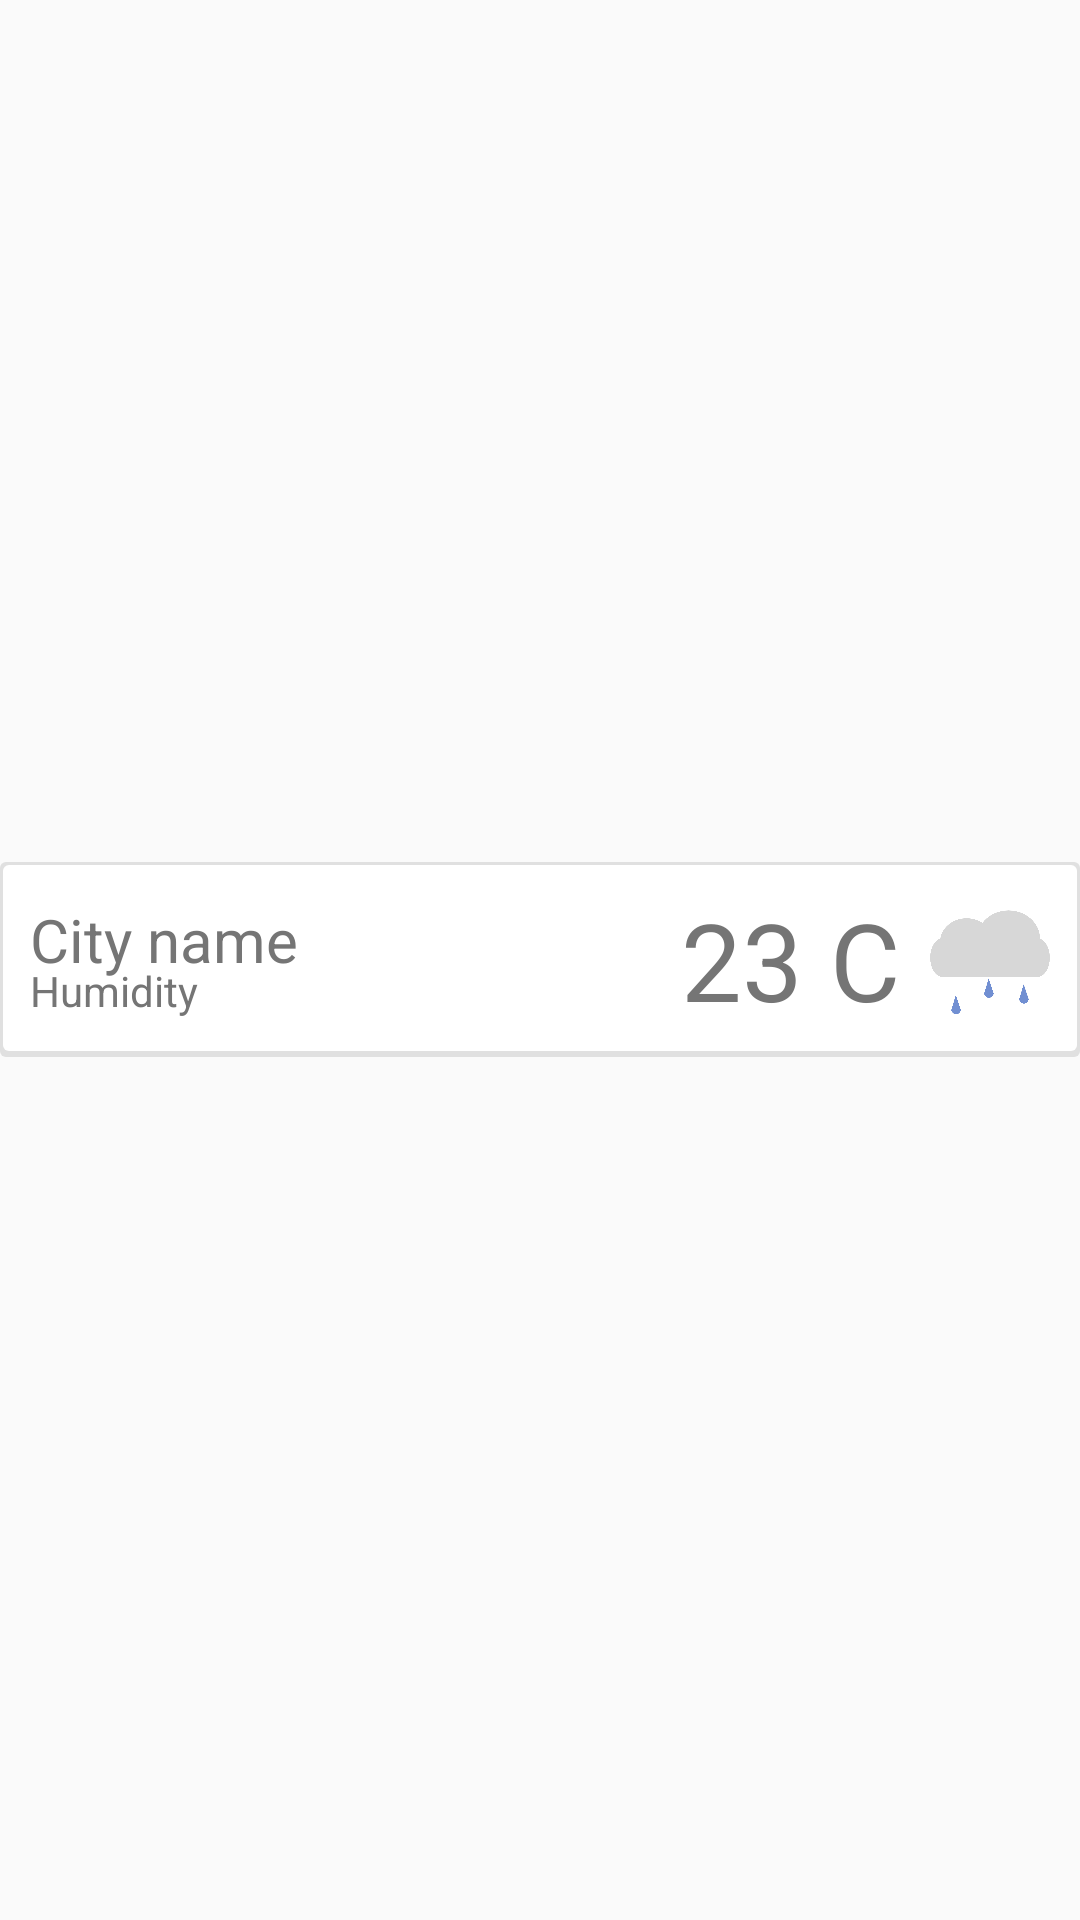

Where to tap for icons on this 1080x1920 app screen, as point (x, y):
rainy: point (990, 962)
